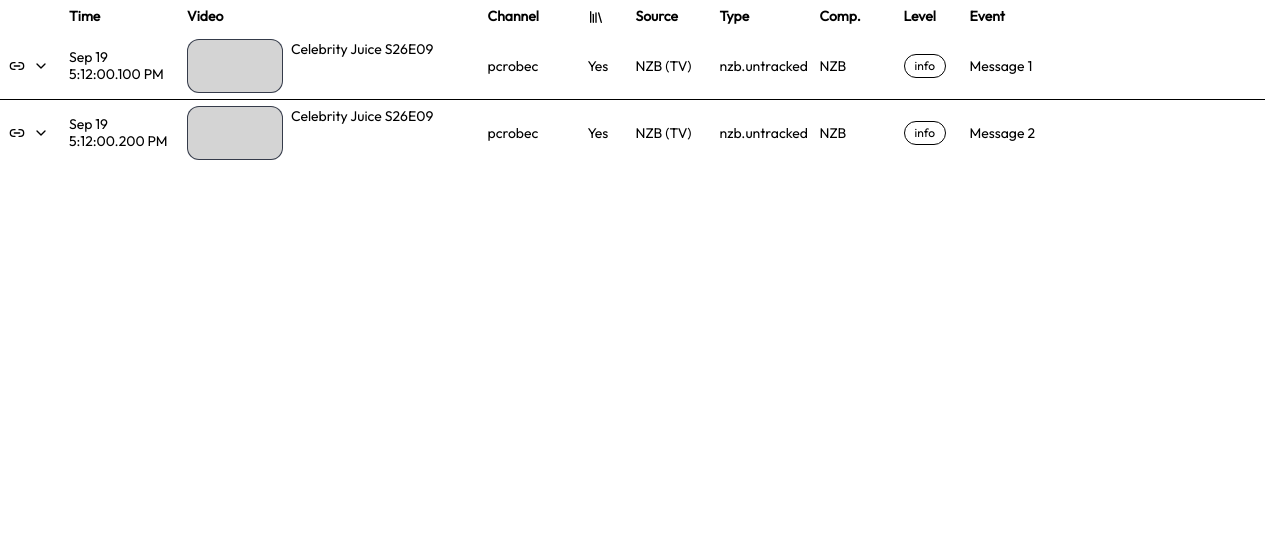
Test: EventLogTable › expansion row › expands one event without expanding the others
The image size is (1280, 537).
Click the button named "Show details" next to "5:12:00.100 PM".
click(41, 66)  # box [29, 54, 53, 78]
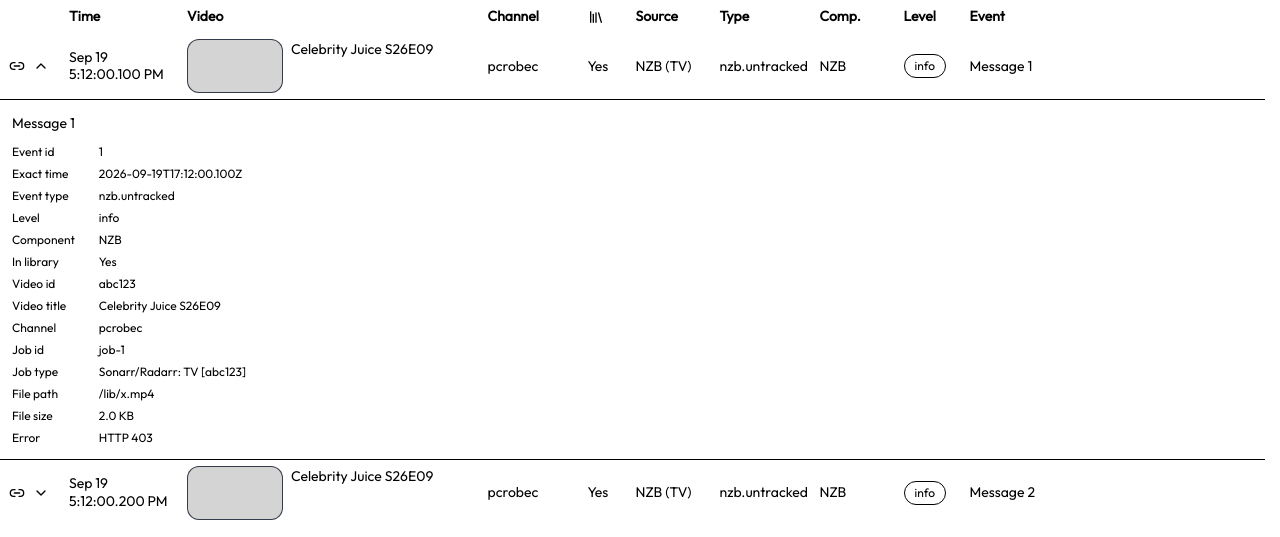
Now the number of elements with test id "event-detail" is 1, box [12, 114, 246, 445]
